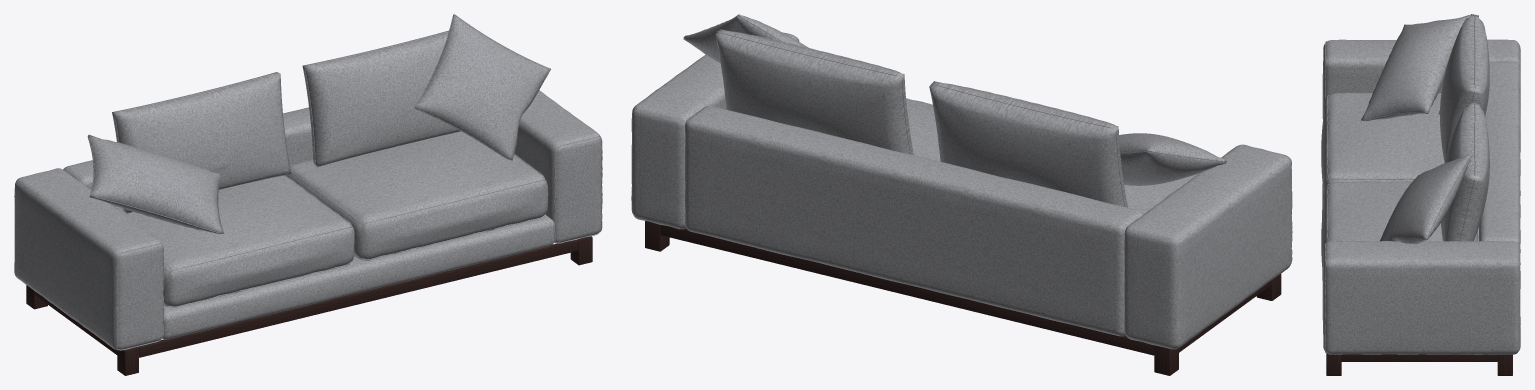
File: stanza-straight-01.glb
3 views of the same model, side by side, from view 1: azimuth 30°, elevation 25°; view 2: azimuth 150°, elevation 25°; view 3: azimuth 270°, elevation 25° (orthographic). The views are drawn at different scales.
Parts seen in each view (by area): view 1: seat_cushion_2, arm_l, seat_cushion_1, back_cushion_2_cover, back_cushion_1_cover, base_band, pillow_2_cover, arm_r, pillow_1_cover, plinth_apron_front, back_panel, foot_1 (+1 smaller); view 2: back_panel, arm_l, back_cushion_1_cover, back_cushion_2_cover, arm_r, plinth_apron_back, pillow_1_cover, pillow_2_cover, seat_cushion_2, seat_cushion_1, foot_3, foot_4; view 3: arm_r, seat_cushion_1, back_panel, pillow_1_cover, seat_cushion_2, back_cushion_2_cover, back_cushion_1_cover, arm_l, pillow_2_cover, plinth_apron_side_r, foot_2, foot_4 (+2 smaller).
Part boxes in pixels (x1,y1,x2,y2): seat_cushion_2: (286,131,548,260); arm_l: (14,168,163,349); seat_cushion_1: (116,175,354,307); back_cushion_2_cover: (302,30,461,167); back_cushion_1_cover: (112,72,291,213); base_band: (162,215,554,339); pillow_2_cover: (414,14,550,160); arm_r: (514,90,601,243); pillow_1_cover: (87,134,223,233); plinth_apron_front: (138,240,578,357); back_panel: (63,107,312,207); foot_1: (117,347,138,375); back_panel: (684,106,1143,336); arm_l: (1124,145,1291,349); back_cushion_1_cover: (929,81,1127,207); back_cushion_2_cover: (715,29,913,154); arm_r: (631,33,798,229); plinth_apron_back: (660,225,1154,355); pillow_1_cover: (1119,133,1226,185); pillow_2_cover: (683,14,808,63); seat_cushion_2: (906,98,940,161); seat_cushion_1: (1124,172,1200,213); foot_3: (1154,345,1178,375); foot_4: (645,221,669,251); arm_r: (1322,241,1520,354); seat_cushion_1: (1321,92,1444,194); back_panel: (1479,61,1520,325); pillow_1_cover: (1361,14,1470,120); seat_cushion_2: (1321,181,1478,273); back_cushion_2_cover: (1441,101,1489,241); back_cushion_1_cover: (1438,14,1489,162); arm_l: (1322,39,1520,119); pillow_2_cover: (1380,153,1472,243); plinth_apron_side_r: (1341,354,1497,361); foot_2: (1326,353,1341,375); foot_4: (1497,354,1512,375).
Size of the model in its own units: 2.33 by 0.9394 by 0.8707.
5 materials, 5 textured.
